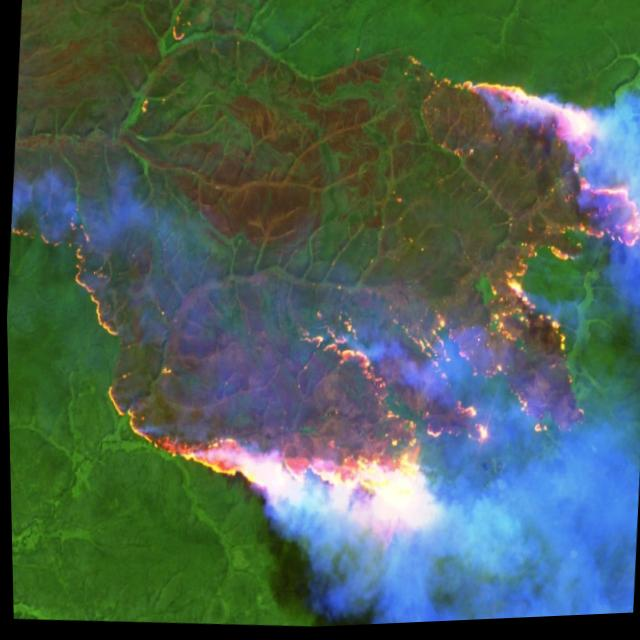fire: (1, 27, 640, 575)
